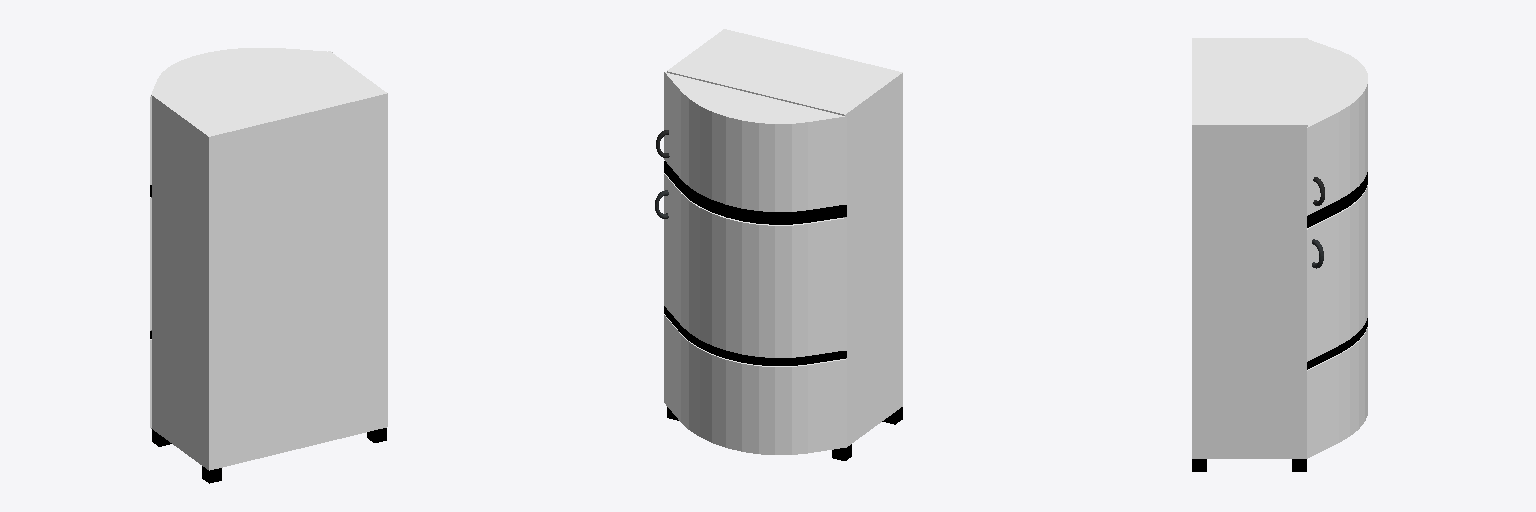
File: rfg.obj
3 views of the same model, side by side, from view 1: azimuth 30°, elevation 25°; view 2: azimuth 150°, elevation 25°; view 3: azimuth 270°, elevation 25° (orthographic).
Visible parts, largest first — view 1: Cubo.007_Cubo.008; view 2: Cubo.007_Cubo.008; view 3: Cubo.007_Cubo.008.
Part boxes in pixels (left/top/right/bottom): Cubo.007_Cubo.008: left=150, top=48, right=387, bottom=483; Cubo.007_Cubo.008: left=655, top=29, right=902, bottom=460; Cubo.007_Cubo.008: left=1192, top=38, right=1367, bottom=471.
Bounding box in the file's own units: 29.02 × 51.97 × 23.94.